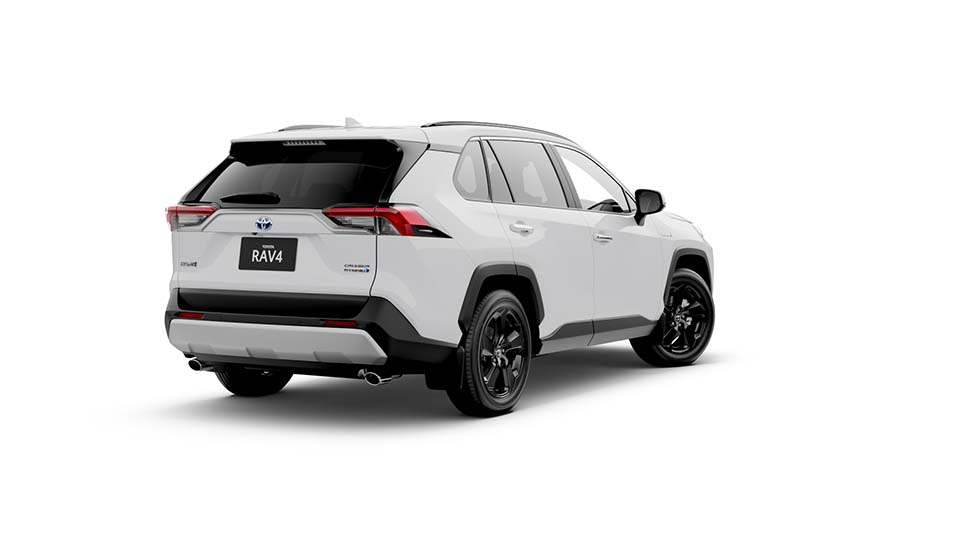Toyota RAV-4: (163, 123, 717, 420)
